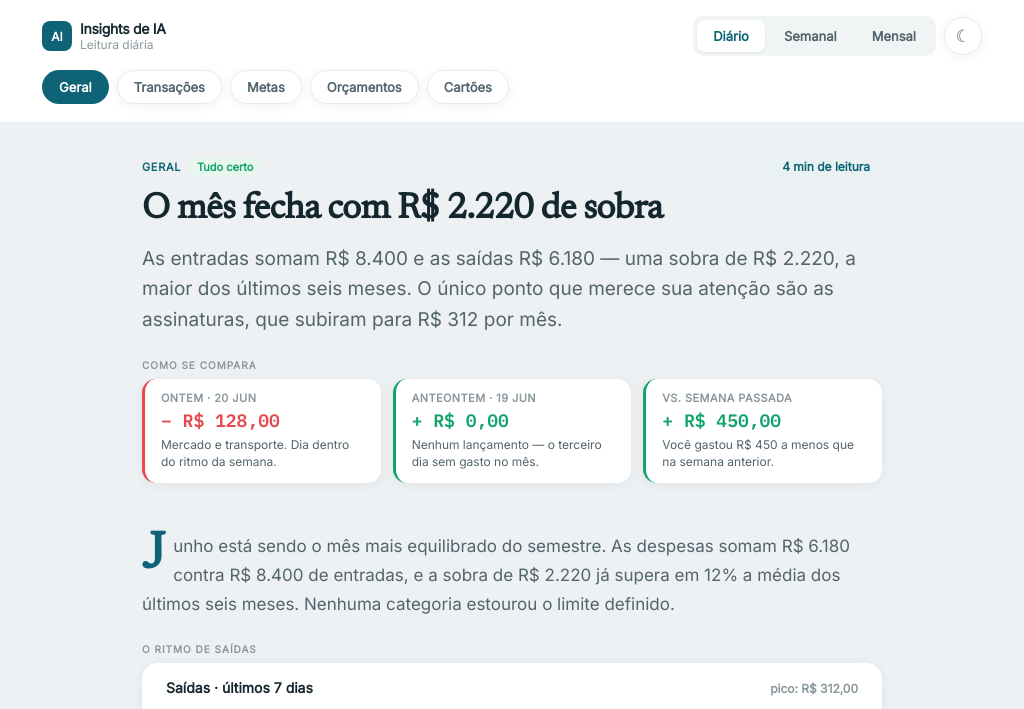
it: InsightsFluida › updates the reading time and chart when cadence flips to weekly
Click the button with class "fluida-cadence__option" showing "Semanal" at coordinates (810, 36), box [768,20,853,52]
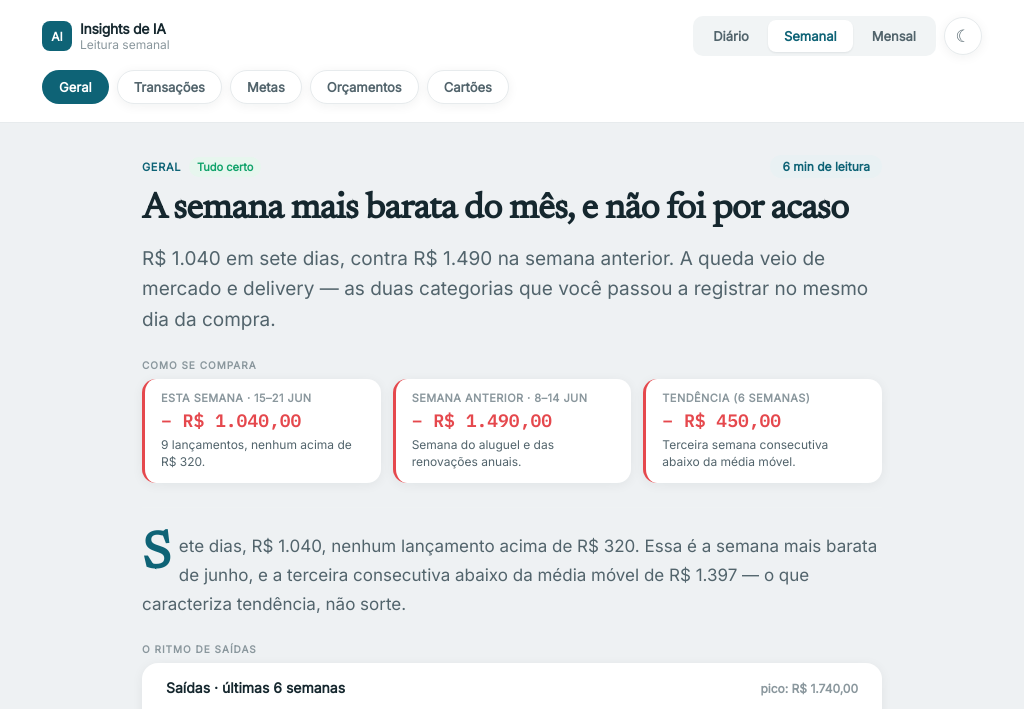
Expected: the text "A semana mais barata do mês, e não foi por acaso" is shown, [142,190,882,232]
